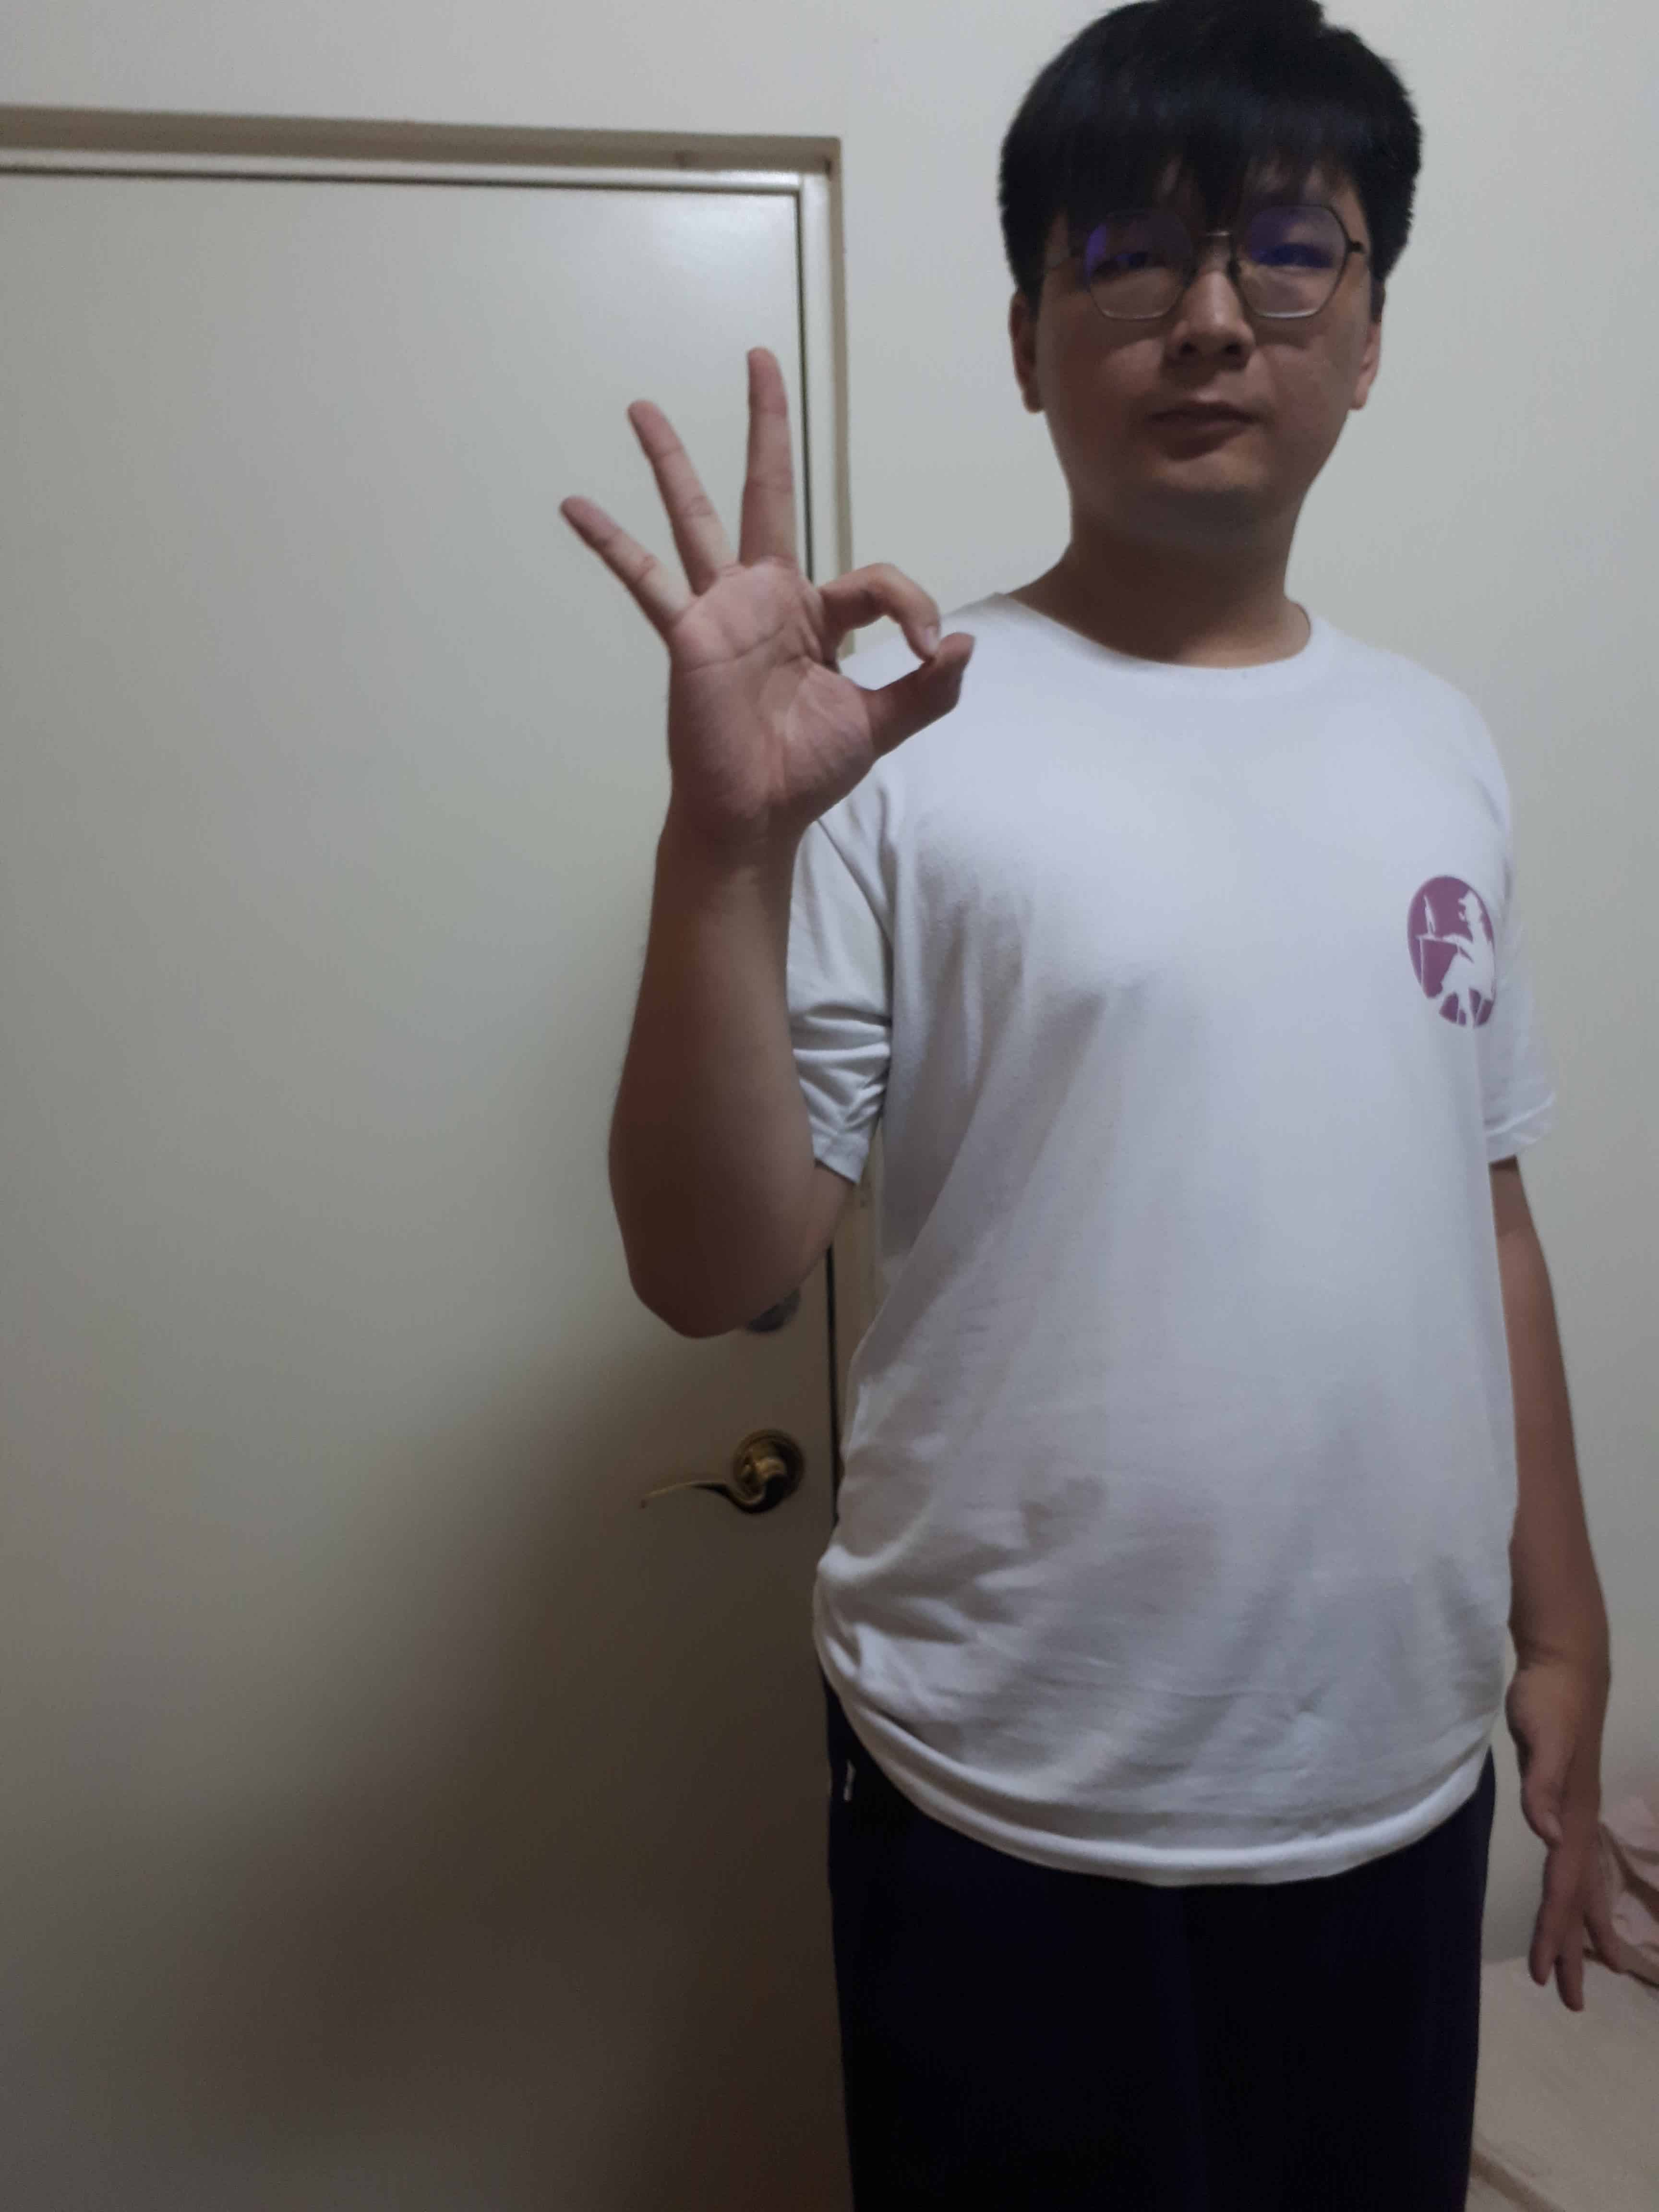ok: (549, 336, 999, 857)
